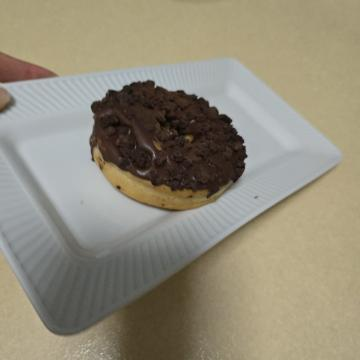doughnut: (71, 107, 221, 282)
